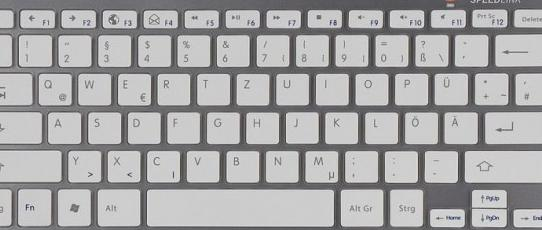0: (372, 32, 408, 66)
1: (15, 32, 51, 66)
2: (55, 32, 91, 66)
3: (94, 32, 130, 66)
4: (135, 32, 170, 66)
5: (173, 32, 209, 66)
6: (213, 32, 249, 66)
7: (253, 32, 289, 66)
8: (292, 32, 328, 66)
9: (332, 32, 368, 66)
a: (45, 109, 80, 143)
accent: (452, 31, 487, 65)
ae: (441, 109, 477, 143)
alt-left: (93, 186, 140, 226)
altgr-right: (337, 187, 383, 227)
b: (222, 148, 258, 181)
c: (143, 148, 179, 182)
caret: (1, 31, 19, 66)
comma: (341, 148, 377, 182)
d: (124, 109, 159, 143)
del: (492, 31, 542, 66)
e: (114, 71, 150, 105)
enter: (480, 109, 542, 143)
f: (163, 109, 199, 143)
g: (203, 109, 238, 143)
h: (242, 109, 278, 143)
hash: (513, 70, 542, 105)
i: (312, 71, 348, 104)
j: (282, 109, 317, 143)
k: (322, 109, 357, 143)
keyboard: (1, 1, 542, 230)
l: (362, 109, 397, 143)
m: (301, 148, 337, 182)
minus: (421, 148, 457, 182)
n: (262, 148, 298, 181)
o: (352, 71, 387, 104)
oe: (401, 109, 437, 143)
p: (391, 70, 427, 104)
plus: (471, 70, 508, 104)
point: (381, 148, 417, 182)
q: (34, 70, 71, 105)
r: (154, 71, 189, 104)
s: (85, 109, 120, 143)
shift-left: (1, 147, 62, 182)
shift-lock: (1, 108, 41, 143)
shift-right: (460, 148, 542, 183)
space: (144, 185, 333, 227)
ss: (411, 32, 448, 66)
strg-left: (1, 186, 20, 226)
strg-right: (387, 187, 423, 227)
t: (194, 71, 229, 104)
tab: (1, 70, 31, 105)
u: (272, 70, 308, 105)
ue: (431, 70, 467, 104)
v: (183, 148, 219, 181)
w: (75, 70, 110, 104)
x: (104, 148, 140, 182)
y: (66, 148, 102, 182)
z: (233, 71, 268, 104)
